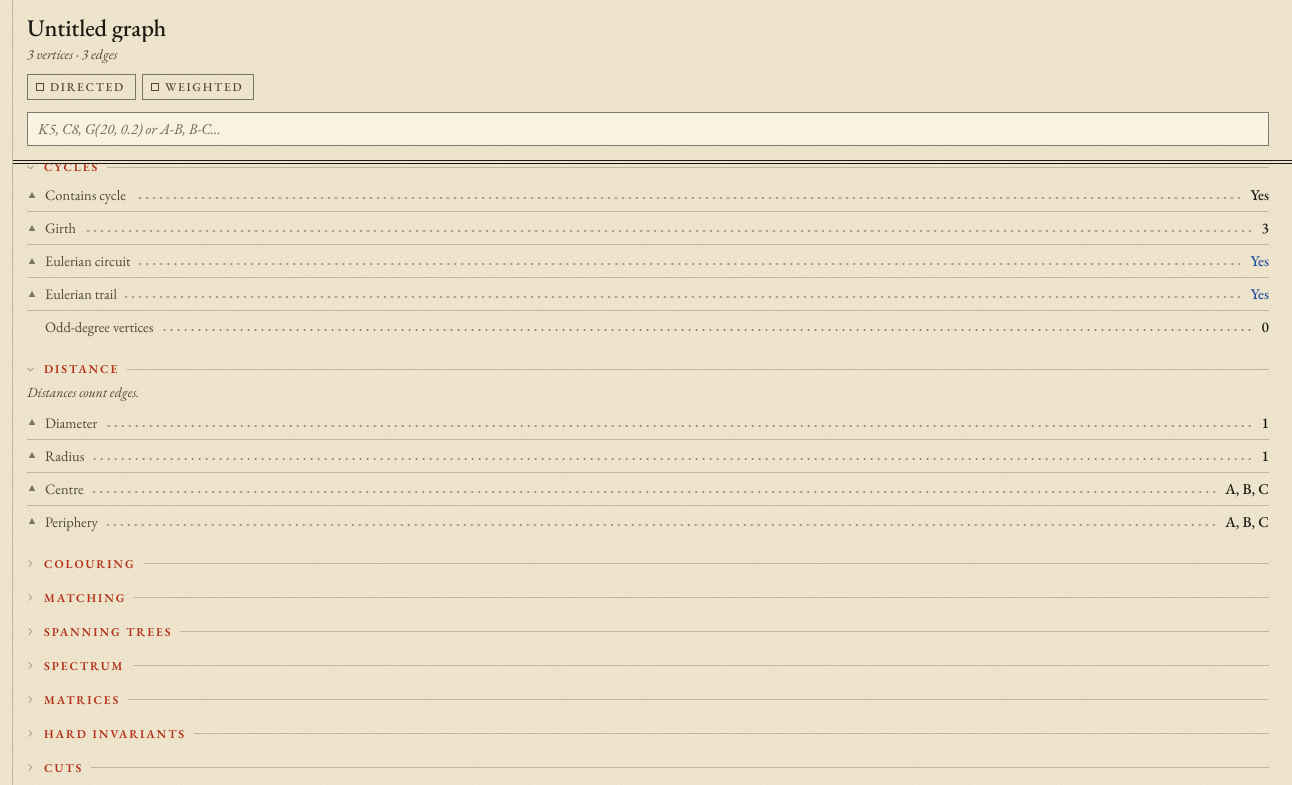
it: Inspector › defers the NP-hard section until it is opened
(page scrolled)
Expected: the text "Chromatic number" is not shown
Click the button "Hard invariants".
click(115, 734)  # box top-left (13, 712), bottom-right (1283, 746)
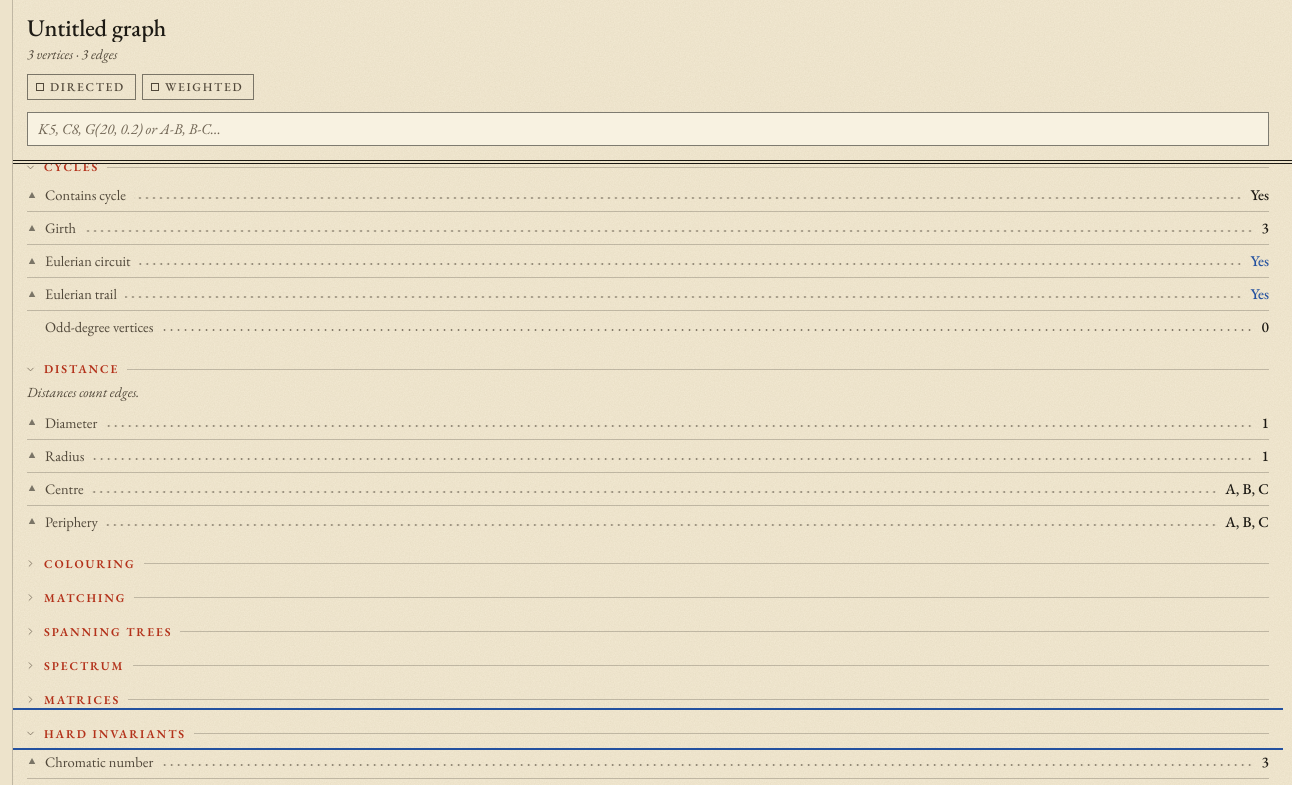
Expected: the text "Chromatic number" is shown, top-left (45, 752), bottom-right (153, 771)
